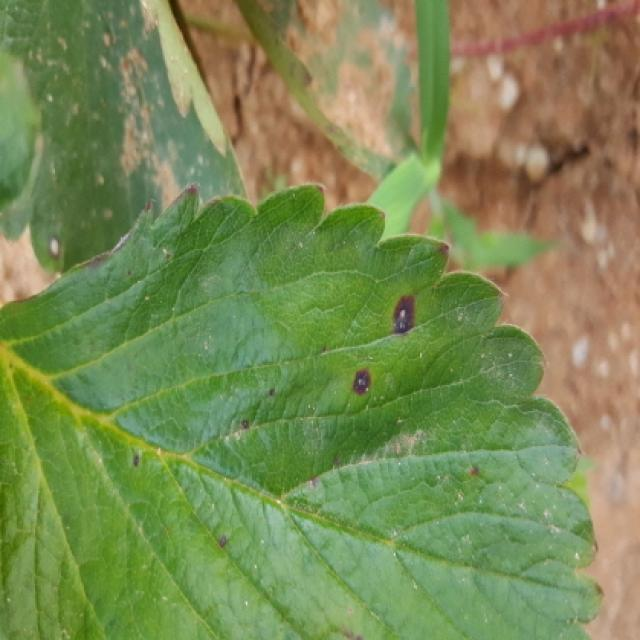Leaf Spot: (0, 183, 606, 638)
